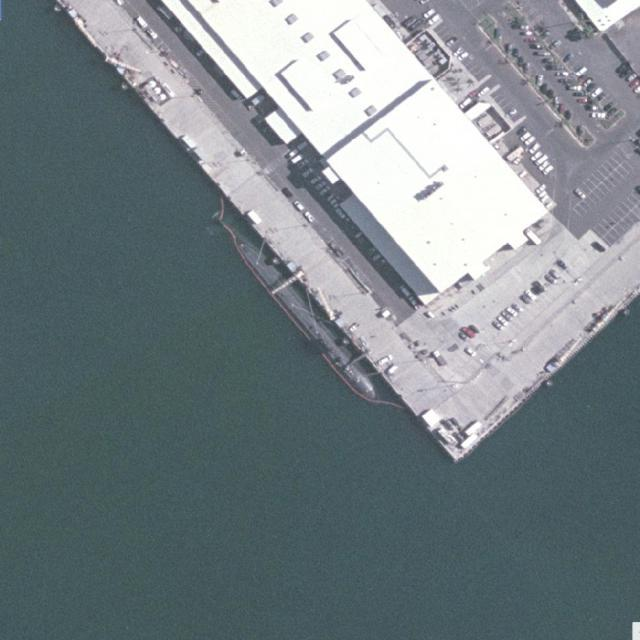Submarine: (228, 231, 387, 409)
